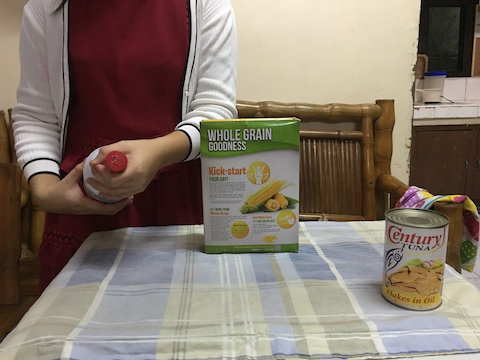bottle: (81, 144, 130, 205)
box: (196, 115, 306, 258)
can: (378, 203, 453, 315)
grab: (84, 142, 153, 205)
